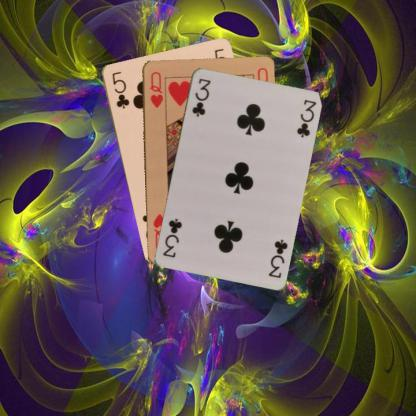3c: (265, 236, 289, 279), (189, 76, 211, 118)
5c: (109, 68, 131, 110)
Qh: (146, 69, 164, 109)
